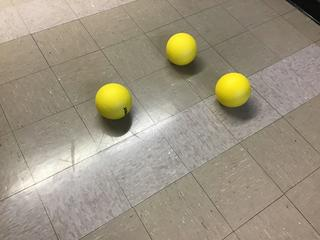power_cell: (93, 81, 135, 121), (213, 69, 252, 109), (165, 31, 202, 69)
